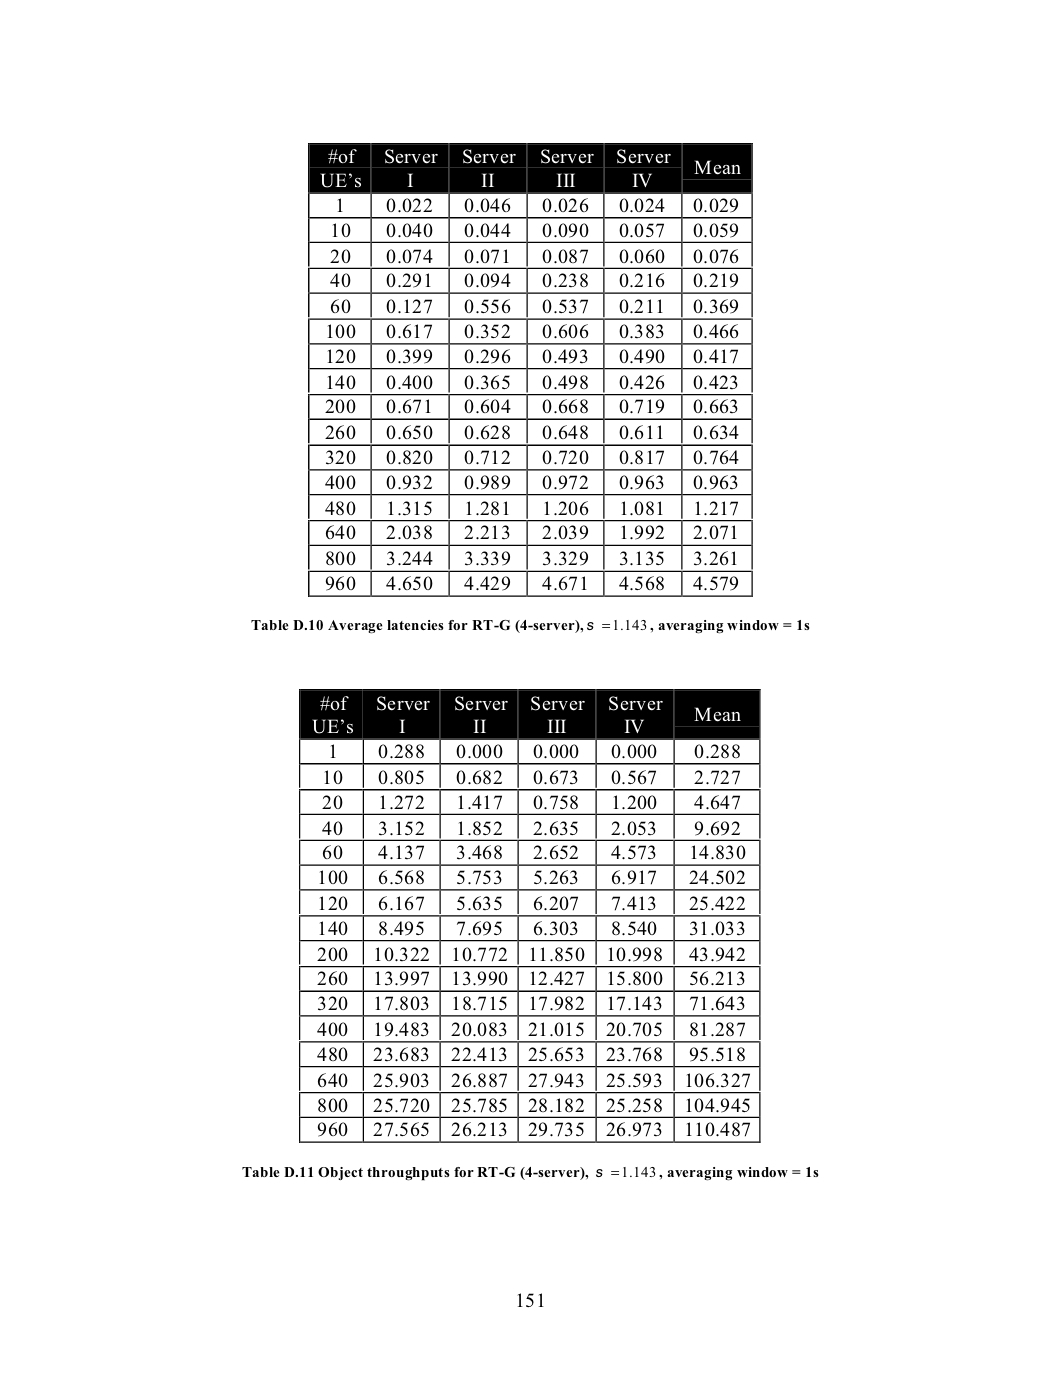Table: (299, 688, 760, 1143), (308, 142, 752, 597)
figure: (517, 1293, 543, 1307)
